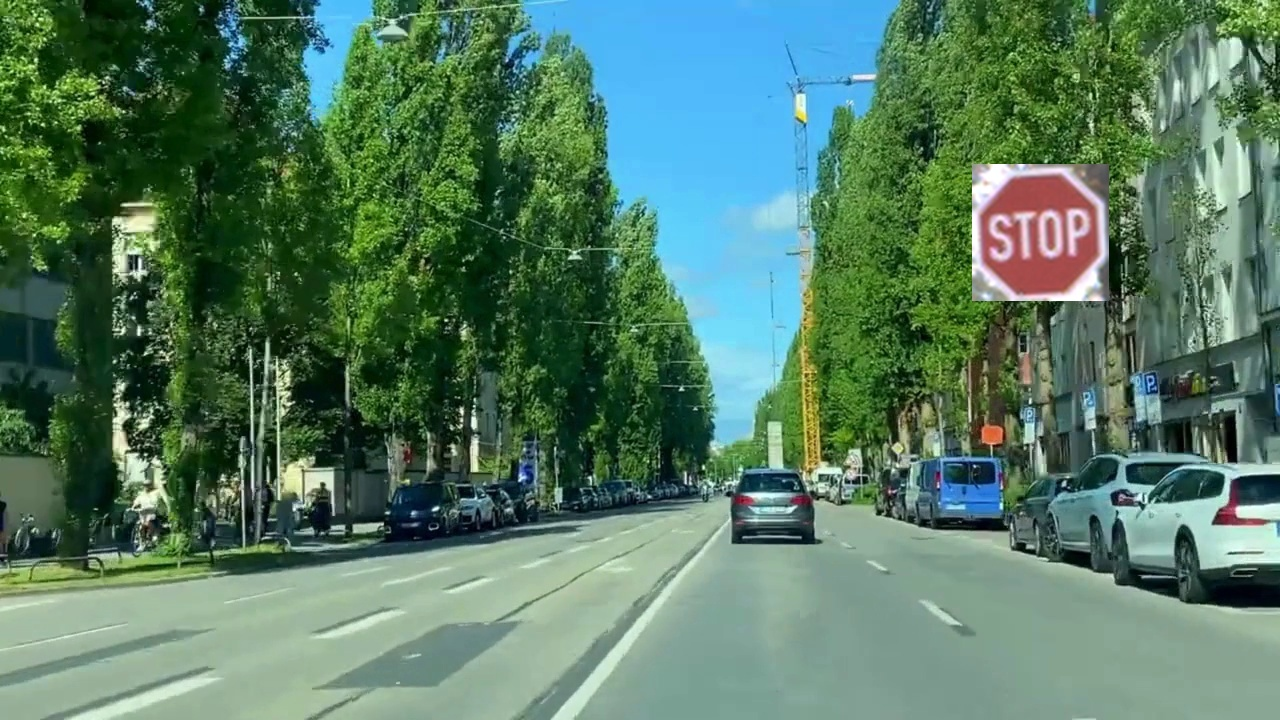Stop: (972, 164, 1109, 301)
